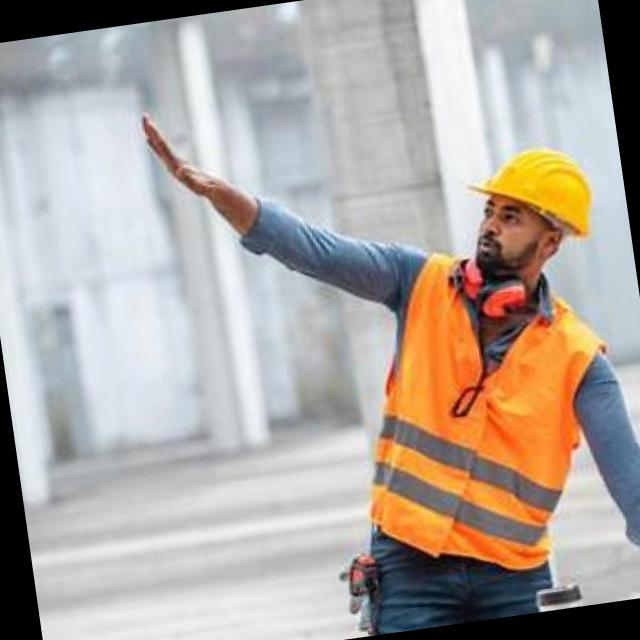not-gloved: (122, 94, 238, 237)
